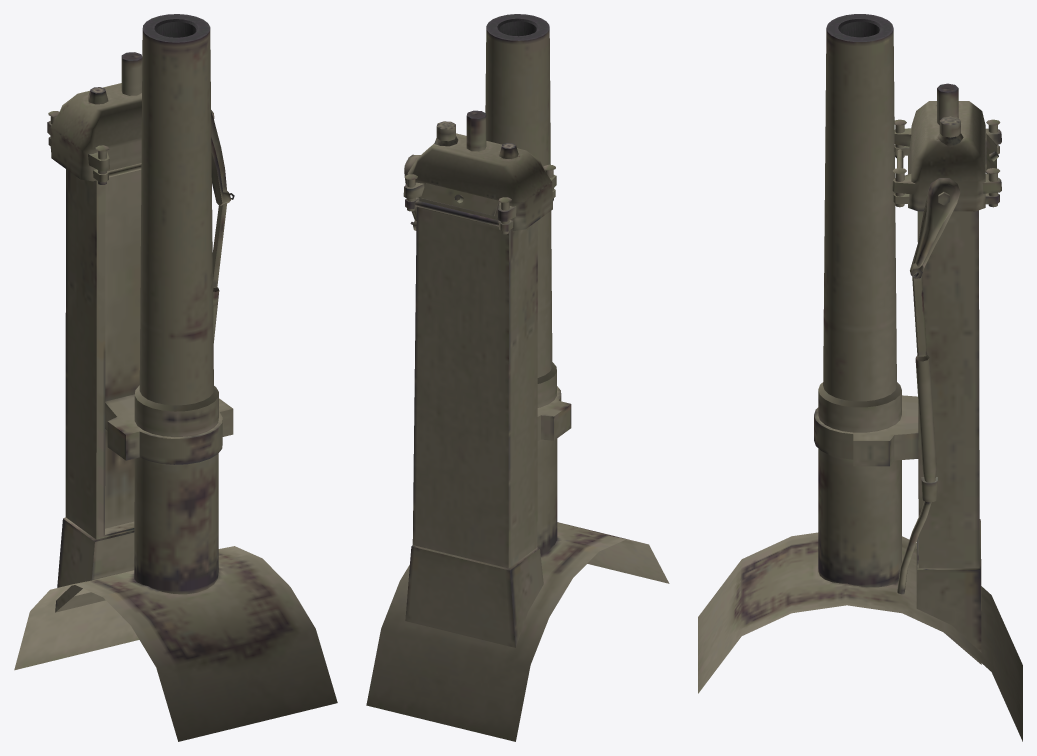
File: Gun_01.glb
3 views of the same model, side by side, from view 1: azimuth 30°, elevation 25°; view 2: azimuth 150°, elevation 25°; view 3: azimuth 270°, elevation 25° (orthographic). The views are drawn at different scales.
Visible parts, largest first — view 1: set_0_group_0; view 2: set_0_group_0; view 3: set_0_group_0.
Part boxes in pixels (<box>): set_0_group_0: <box>14,14,337,741</box>; set_0_group_0: <box>366,14,669,741</box>; set_0_group_0: <box>698,14,1022,741</box>.
Size of the model in its own units: 0.377 by 1.48 by 0.6449.
Materials: 1 (1 with a texture image).
